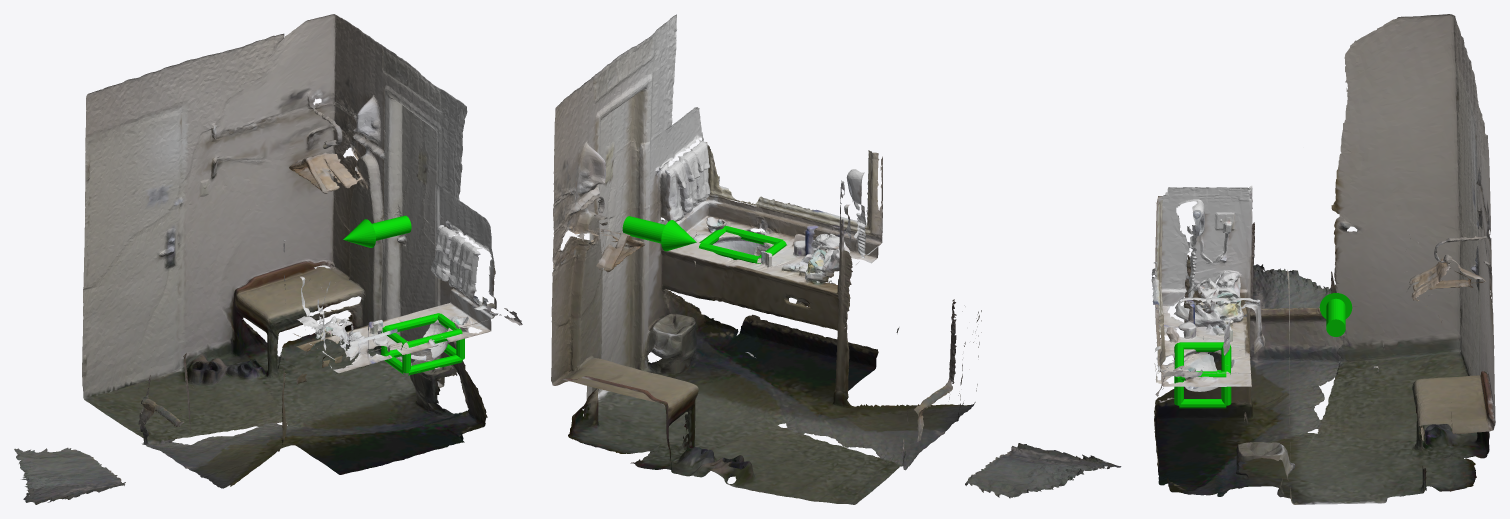
3 views of the same model, side by side, from view 1: azimuth 30°, elevation 25°; view 2: azimuth 150°, elevation 25°; view 3: azimuth 270°, elevation 25° (orthographic). The views are drawn at different scales.
Visible parts, largest first — view 1: scene0574_00_220602033135.ply; view 2: scene0574_00_220602033135.ply; view 3: scene0574_00_220602033135.ply.
Part boxes in pixels (<box>): scene0574_00_220602033135.ply: <box>14,14,522,504</box>; scene0574_00_220602033135.ply: <box>551,14,1121,504</box>; scene0574_00_220602033135.ply: <box>1151,14,1495,504</box>.
Size of the model in its own units: 3.55 by 2.41 by 2.12.
